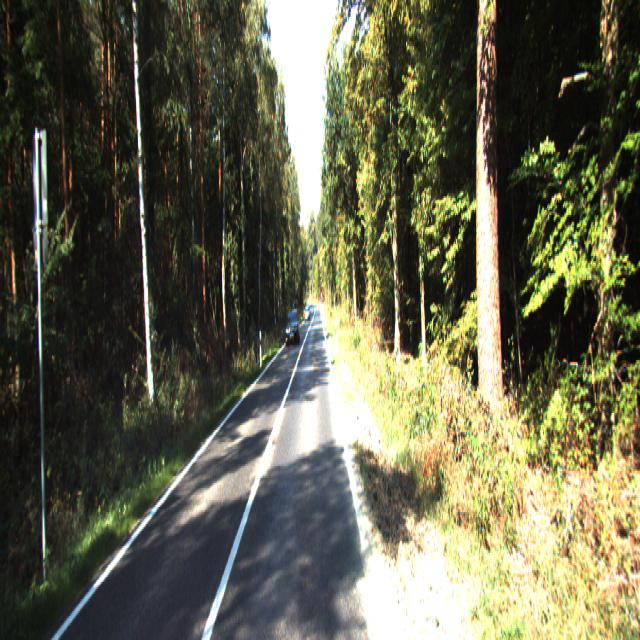Car: (285, 309, 300, 346)
